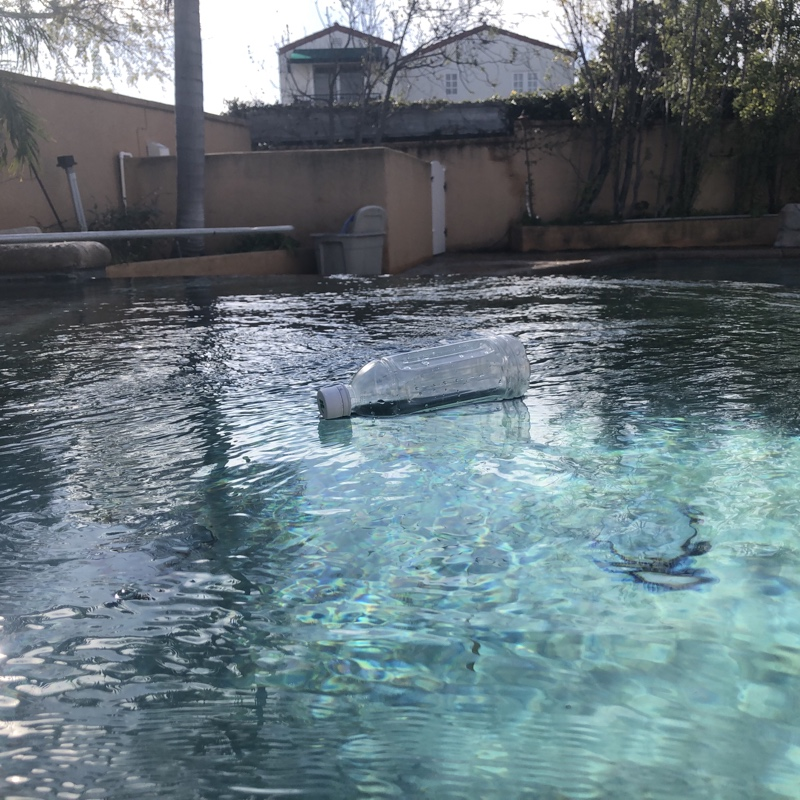Plastic Bottle: (311, 334, 535, 423)
